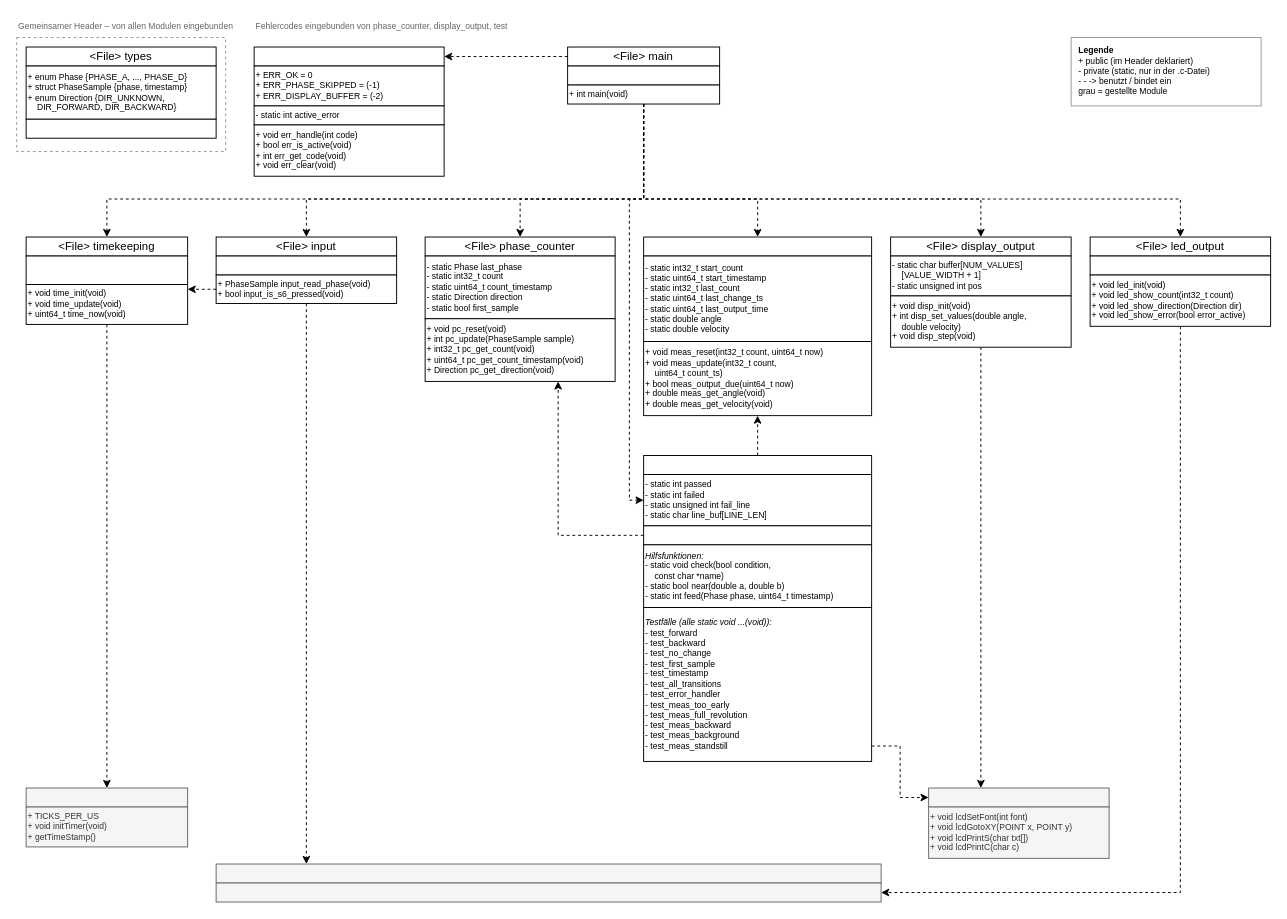
The diagram is 1287 pixels wide and 919 high, and some of its shapes have lost their labels. The box of each missing label's shape, as (x1, y1, x2, y2) in pixels:
+ void test_run_all(void): (643, 525, 872, 545)
- static uint32_t last_ticks - static uint64_t total_ticks: (25, 255, 188, 285)
<File> err_handler: (253, 46, 444, 66)
<File> lcd: (928, 787, 1109, 807)
<File> measurement: (643, 236, 872, 256)
<File> stm32f429xx: (215, 863, 881, 883)
<File> test: (643, 455, 872, 475)
<File> timer: (25, 787, 188, 807)
GPIOD, GPIOE, GPIOF ->IDR, ->BSRR: (215, 882, 881, 902)
